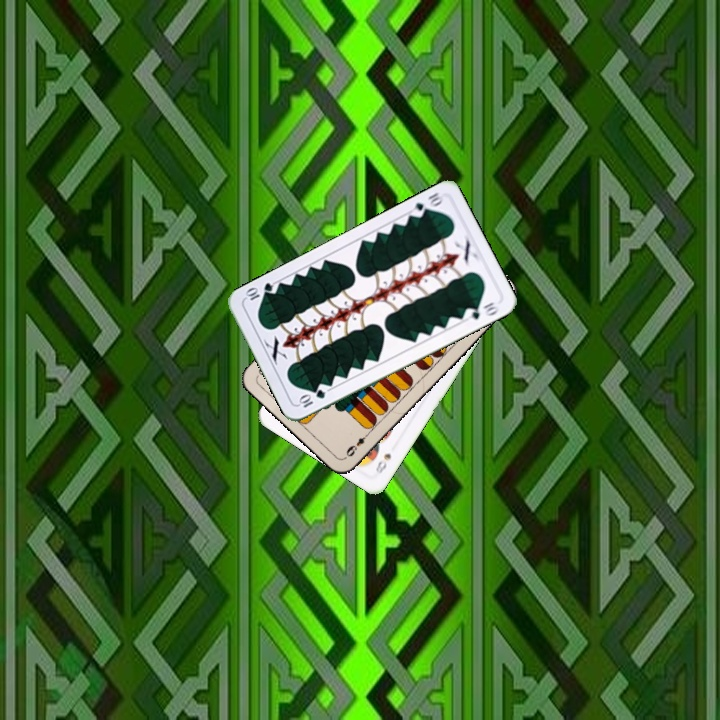E9: (341, 428, 373, 461)
G10: (407, 188, 444, 220), (295, 385, 328, 410)
S8: (371, 449, 394, 477)
